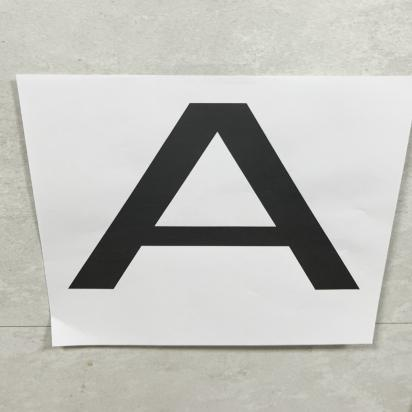seat: (48, 84, 372, 306)
